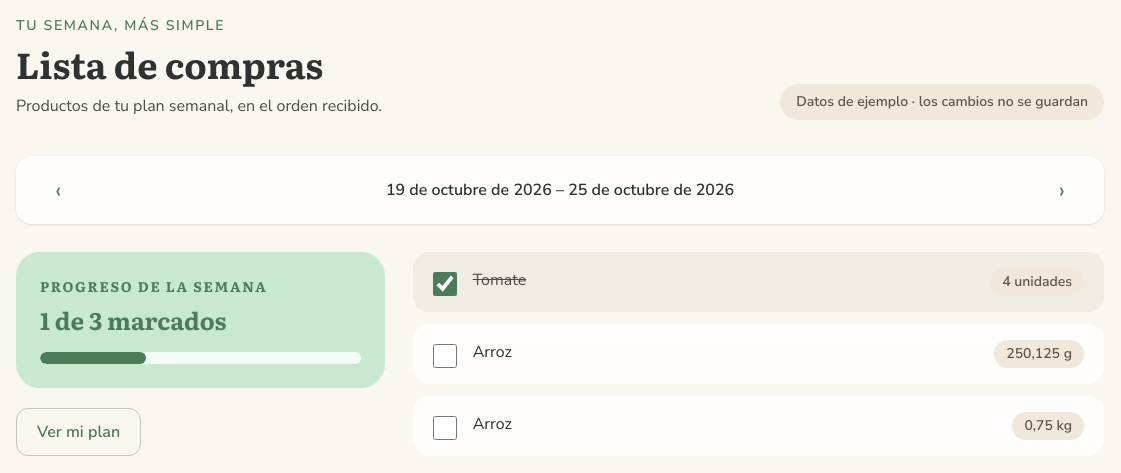
ShoppingListPage fixture container › sets a checkbox from its requested value, recalculates progress and leaves source fixtures unchanged
The image size is (1121, 473).
Click the checkbox named "Arroz, 250,125 g" at (445, 356), box [433,344,457,368]
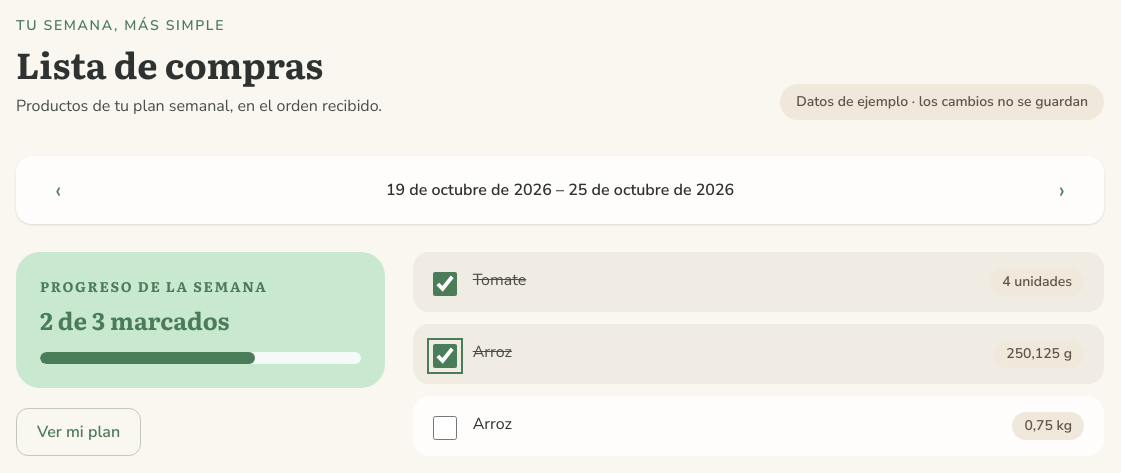
Result: the checkbox named "Arroz, 250,125 g" is checked at [433,344,457,368]
Result: the text "2 de 3 marcados" is shown at [40,302,230,337]
